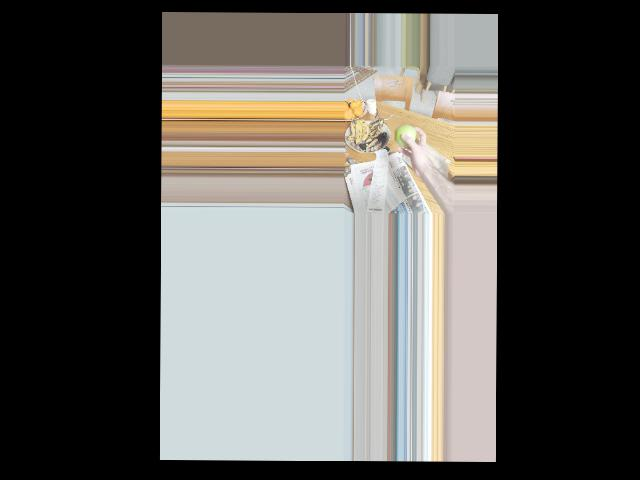apple: (394, 125, 416, 148)
